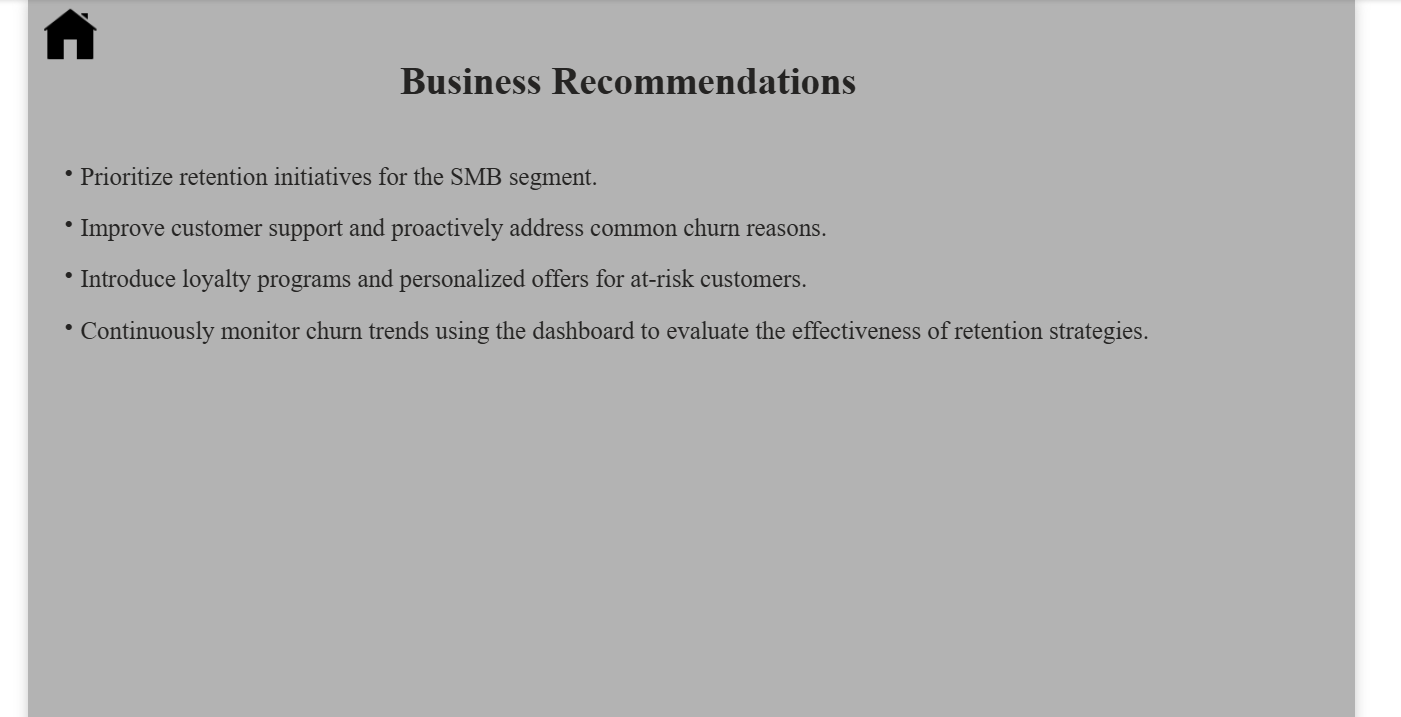

The page's visual inventory and layout, read from the dashboard file:
{"tool":"powerbi","page":{"name":"Business Recommendation ","canvas":[1280,720],"ordinal":8},"visuals":[{"type":"textbox","box":[9.7,0,1138.9,480.2],"z":0},{"type":"image","box":[9.7,8.4,62.7,53.1],"z":1000}]}

Visuals, with their boxes on the page's 1280x720 design canvas (x1, y1, x2, y2). These are canvas units, not pixel positions in the 1401x717 screenshot, which may show the page scaled, cropped or inside an application window:
textbox: [10, 0, 1149, 480]
image: [10, 8, 72, 62]
